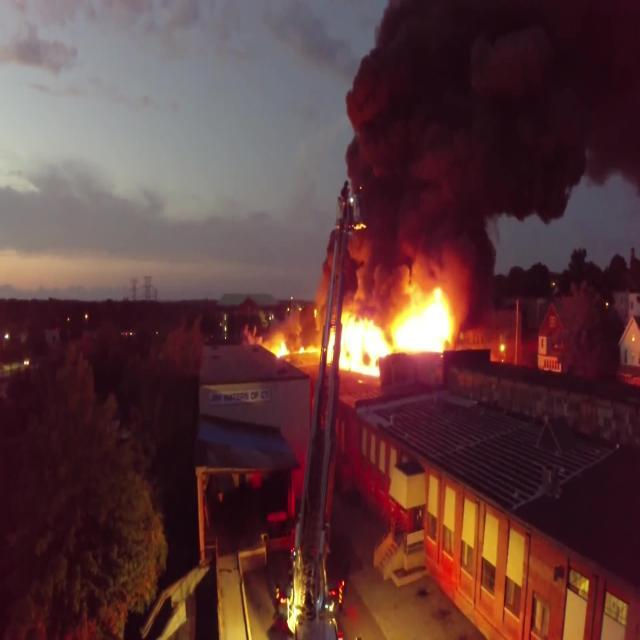Fire: (270, 296, 466, 354)
Smoke: (329, 0, 640, 304)
